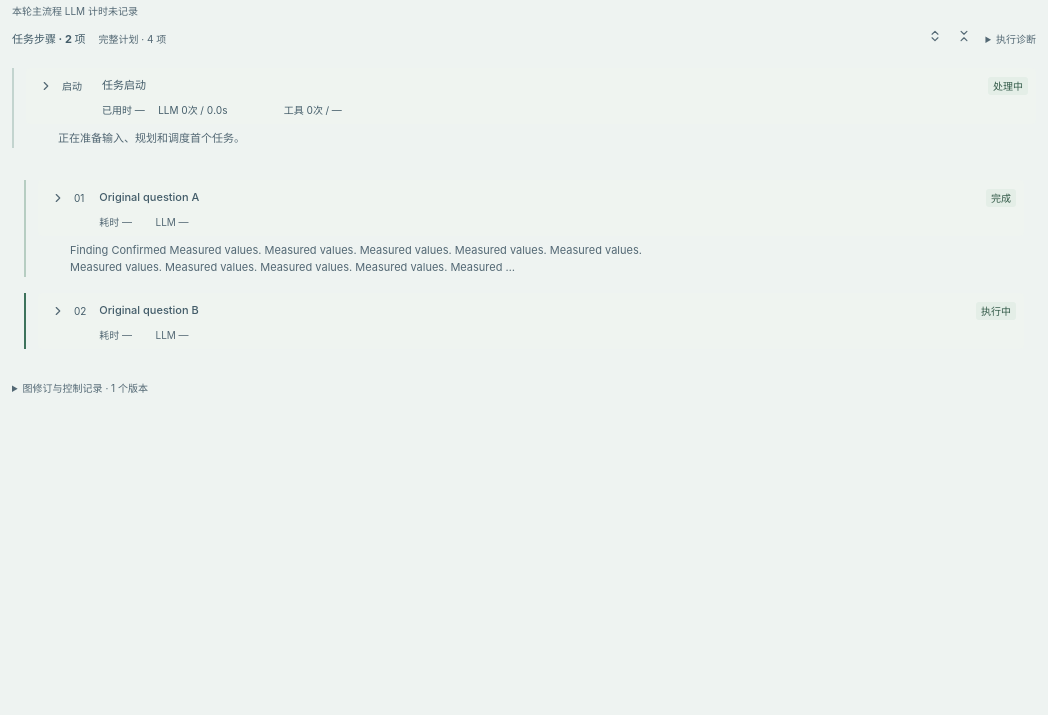
Test: actual graph process reader › keeps prior execution input bindings visible after the node starts a new execution
Click the button named "展开步骤：Original question B" at coordinates (58, 311), box x1=46 y1=299 x2=70 y2=323
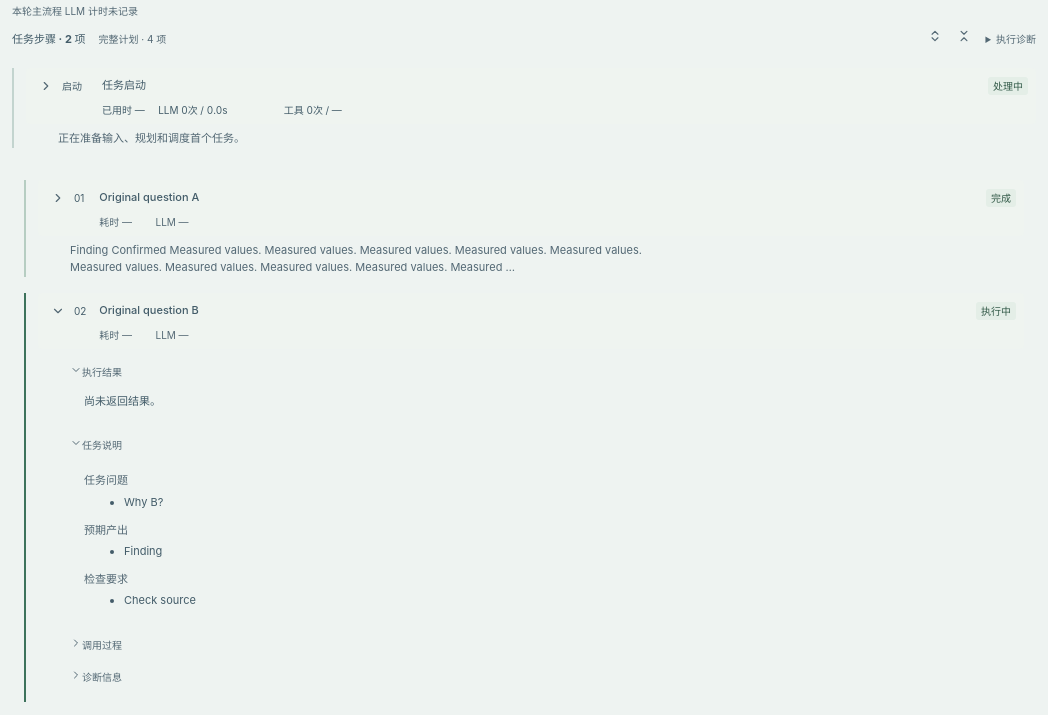
Click the heading "诊断信息" at coordinates (96, 676), box x1=70 y1=669 x2=122 y2=683
(page scrolled)
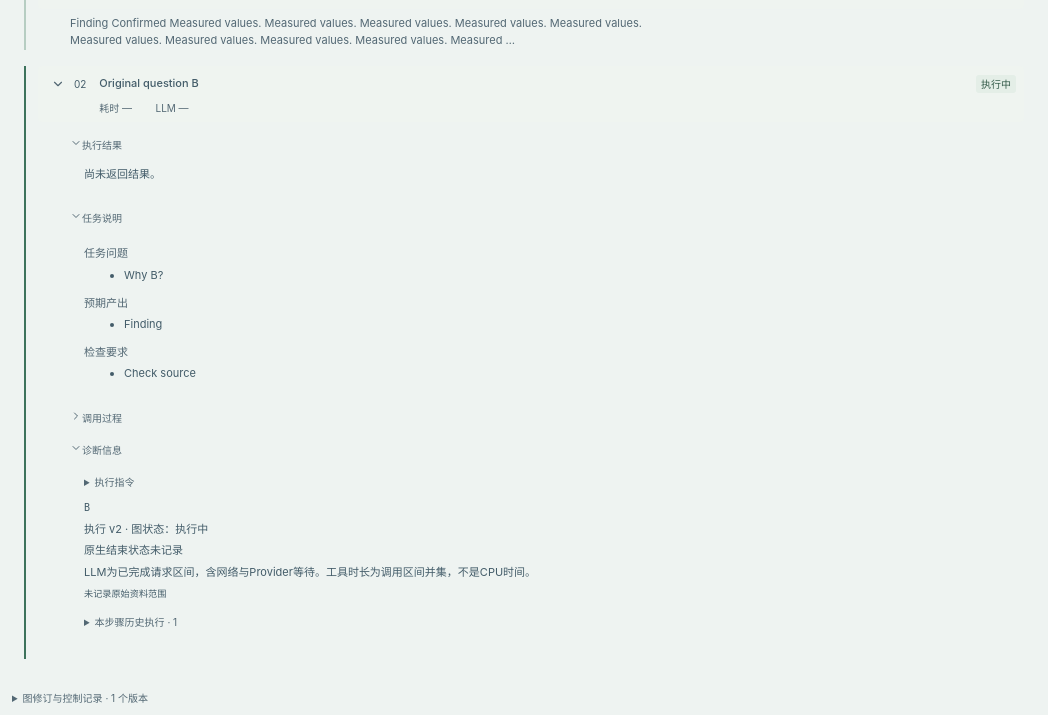
Click the heading "本步骤历史执行 · 1" at coordinates (136, 622), box x1=95 y1=616 x2=177 y2=628
(page scrolled)
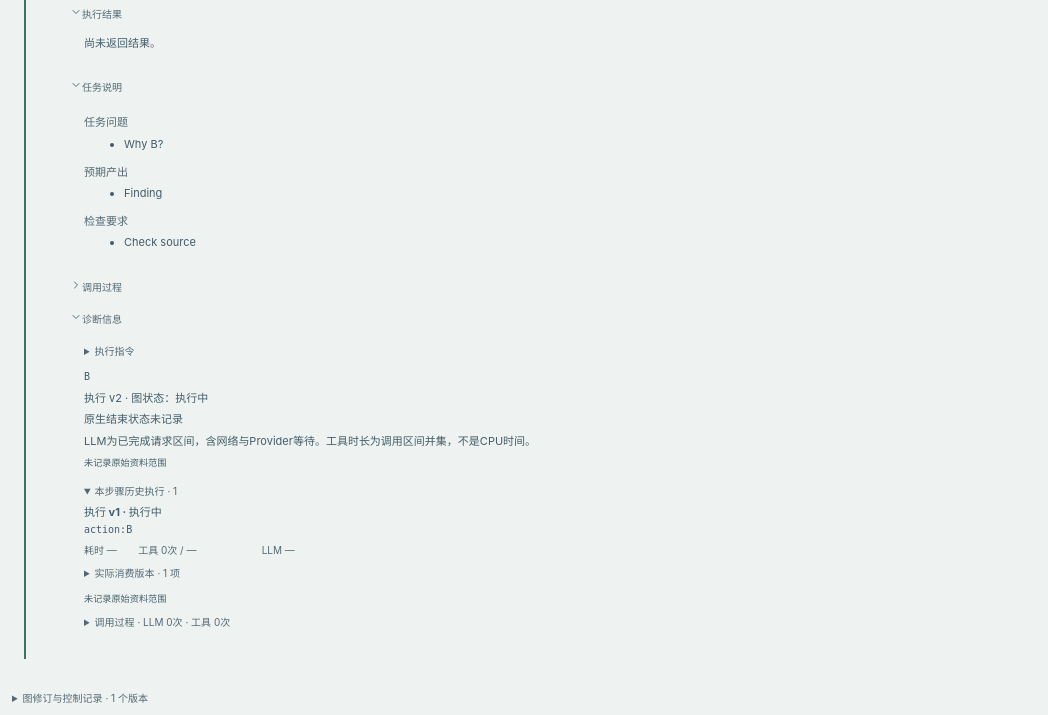
Click the heading "实际消费版本 · 1 项" at coordinates (137, 572), box x1=95 y1=566 x2=180 y2=578
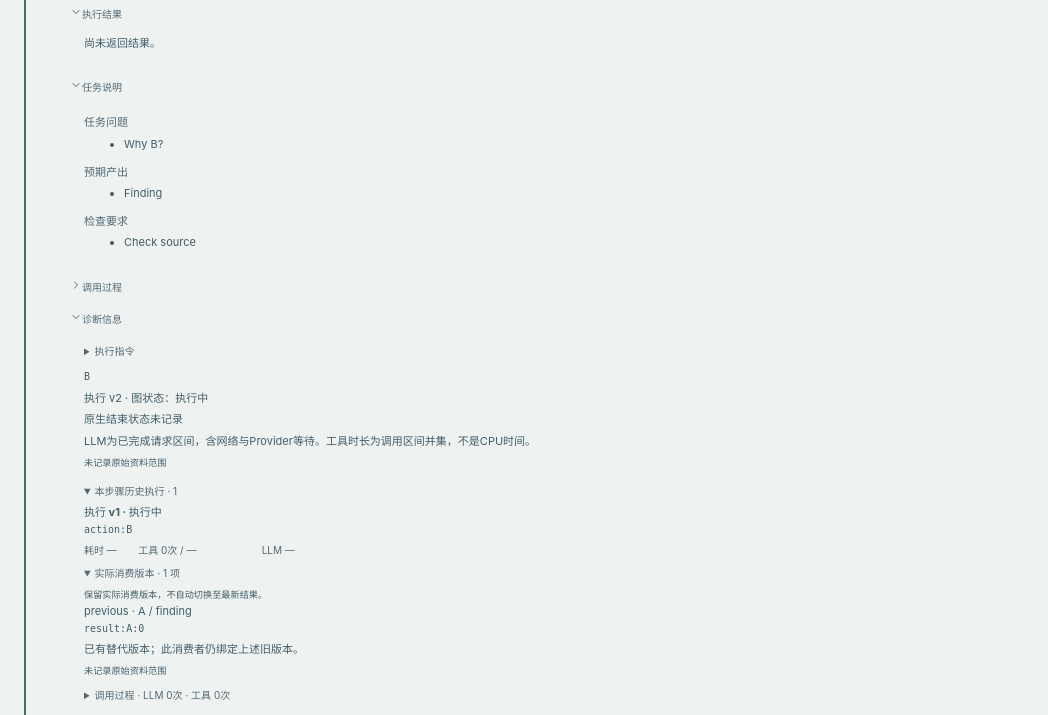
Now the text "result:A:0" is shown, box x1=84 y1=623 x2=144 y2=634
